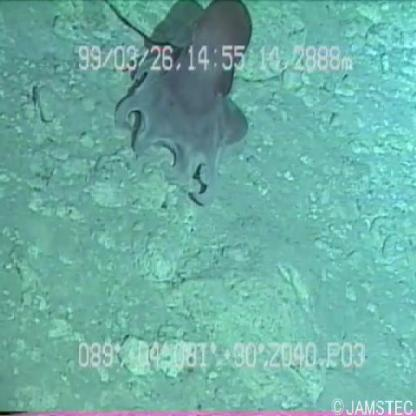Bio: (111, 1, 256, 212)
